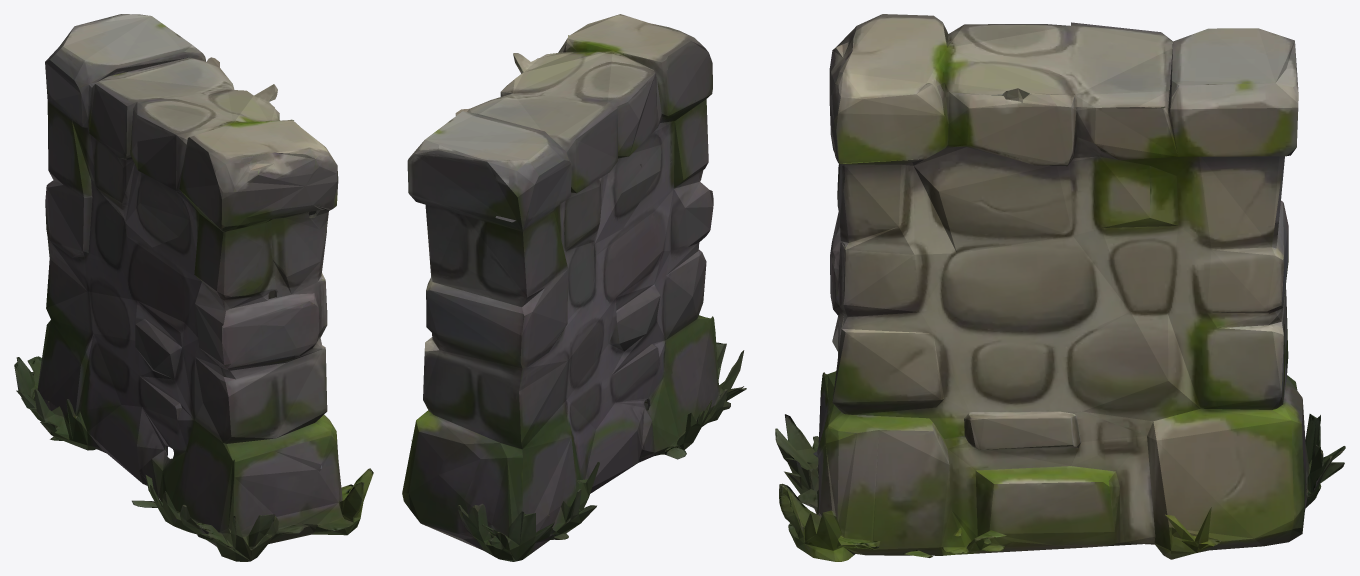
The model's file is wall_cobble_a.glb.
3 renders of one model, left to right at view 1: azimuth 30°, elevation 25°; view 2: azimuth 150°, elevation 25°; view 3: azimuth 270°, elevation 25°, orthographic. The views are drawn at different scales.
Parts seen in each view (by area): view 1: world; view 2: world; view 3: world.
Boxes of the visible parts, x1,y1,x2,y2 form: world: [14, 14, 373, 561]; world: [402, 14, 746, 561]; world: [775, 14, 1345, 561].
Bounding box in the file's own units: 0.4438 × 0.92 × 0.9878.
1 material, 1 textured.
